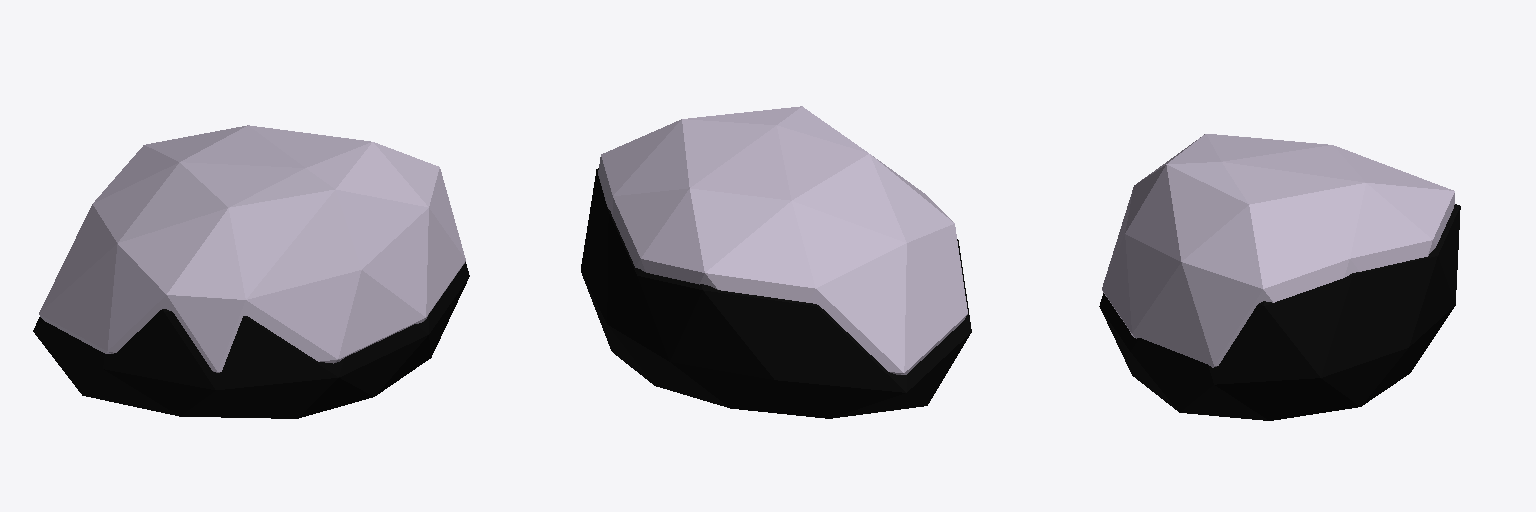
Rendered from Rock01.obj.
The picture shows the model from 3 angles: view 1: azimuth 30°, elevation 25°; view 2: azimuth 150°, elevation 25°; view 3: azimuth 270°, elevation 25°; orthographic projection.
Visible parts, largest first — view 1: CaillouHiver1_Icosphere.008, Icosphere.003; view 2: CaillouHiver1_Icosphere.008, Icosphere.003; view 3: CaillouHiver1_Icosphere.008, Icosphere.003.
Part boxes in pixels (x1,y1,x2,y2): CaillouHiver1_Icosphere.008: (39,125,465,372); Icosphere.003: (33,262,469,418); CaillouHiver1_Icosphere.008: (598,106,967,374); Icosphere.003: (581,168,971,418); CaillouHiver1_Icosphere.008: (1102,134,1454,367); Icosphere.003: (1099,204,1460,420).
Size of the model in its own units: 0.8068 by 0.444 by 0.6976.